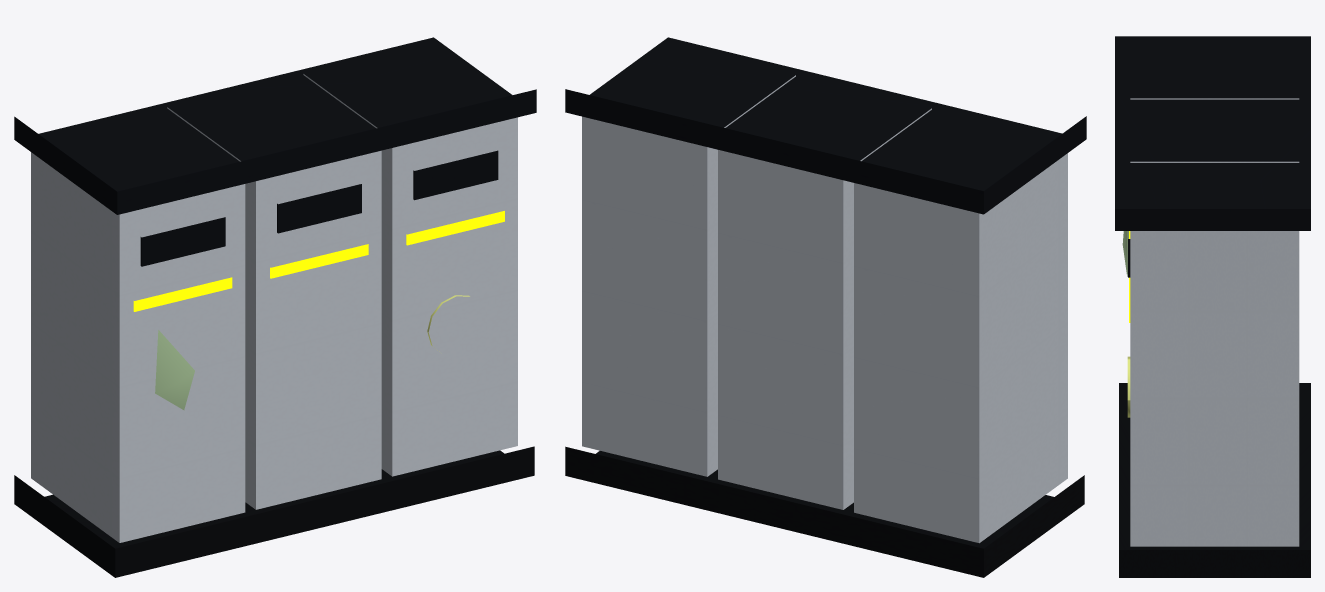
File: tt_food_bin.glb
3 renders of one model, left to right at view 1: azimuth 30°, elevation 25°; view 2: azimuth 150°, elevation 25°; view 3: azimuth 270°, elevation 25°, orthographic. The views are drawn at different scales.
Visible parts, largest first — view 1: Bin_Bodies, Bin_Hood, Bin_Plinth, Bin_Mouths, Bin_Stream_LED, Bin_Leaf; view 2: Bin_Bodies, Bin_Hood, Bin_Plinth; view 3: Bin_Bodies, Bin_Hood, Bin_Plinth.
Boxes of the visible parts, x1,y1,x2,y2 form: Bin_Bodies: (31,74,517,542); Bin_Hood: (14,37,536,214); Bin_Plinth: (14,446,534,577); Bin_Mouths: (140,150,498,266); Bin_Stream_LED: (133,211,504,311); Bin_Leaf: (155,330,194,410); Bin_Bodies: (582,75,1067,543); Bin_Hood: (565,37,1086,214); Bin_Plinth: (565,446,1084,577); Bin_Bodies: (1130,98,1299,546); Bin_Hood: (1115,36,1310,230); Bin_Plinth: (1119,383,1310,577).
Size of what is drawn, in the model's own units: 1.2 by 1.06 by 0.51.
6 materials, 3 textured.
